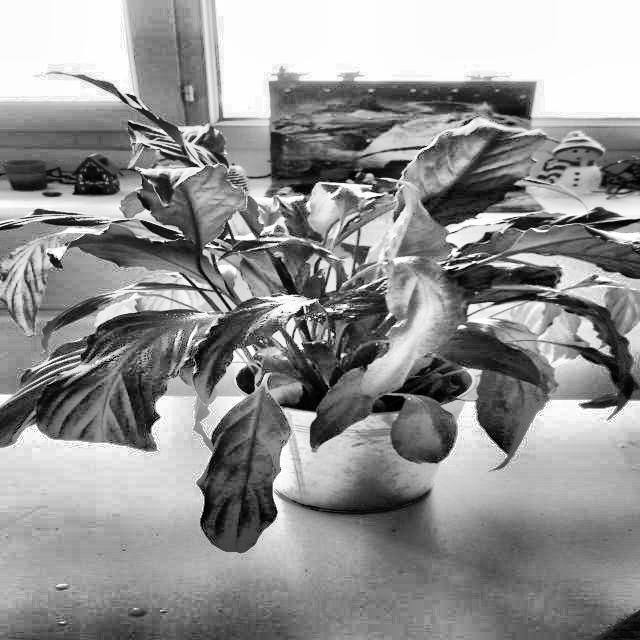plants: (0, 118, 640, 548)
